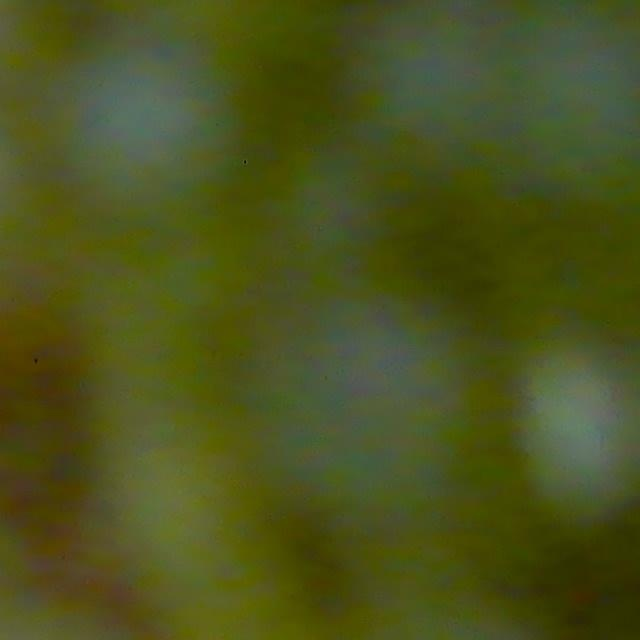SeaGrape: (243, 250, 493, 542), (48, 46, 260, 246), (347, 0, 551, 200)
